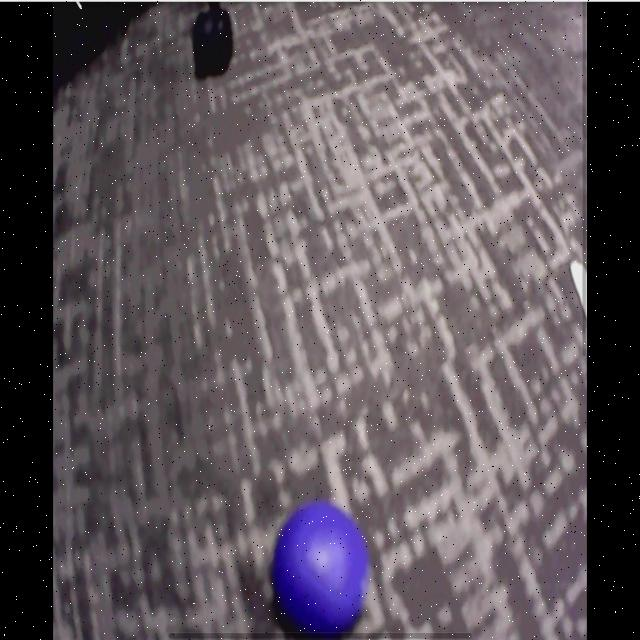ball: (271, 504, 368, 635)
